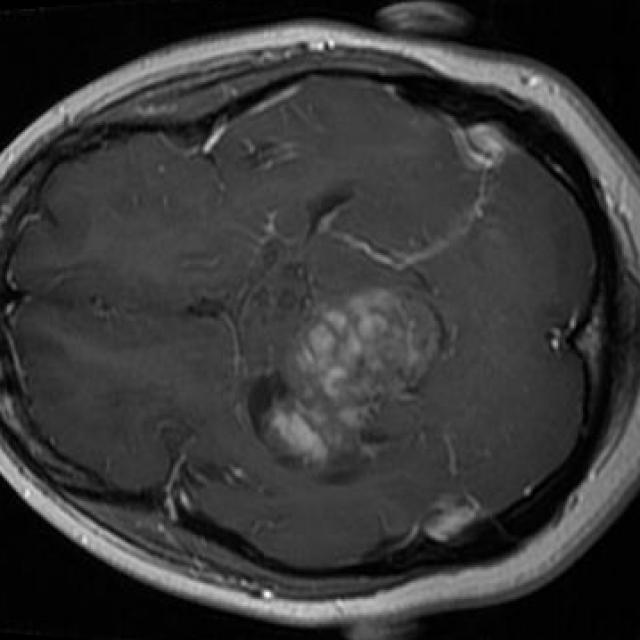glioma: (250, 291, 449, 483)
